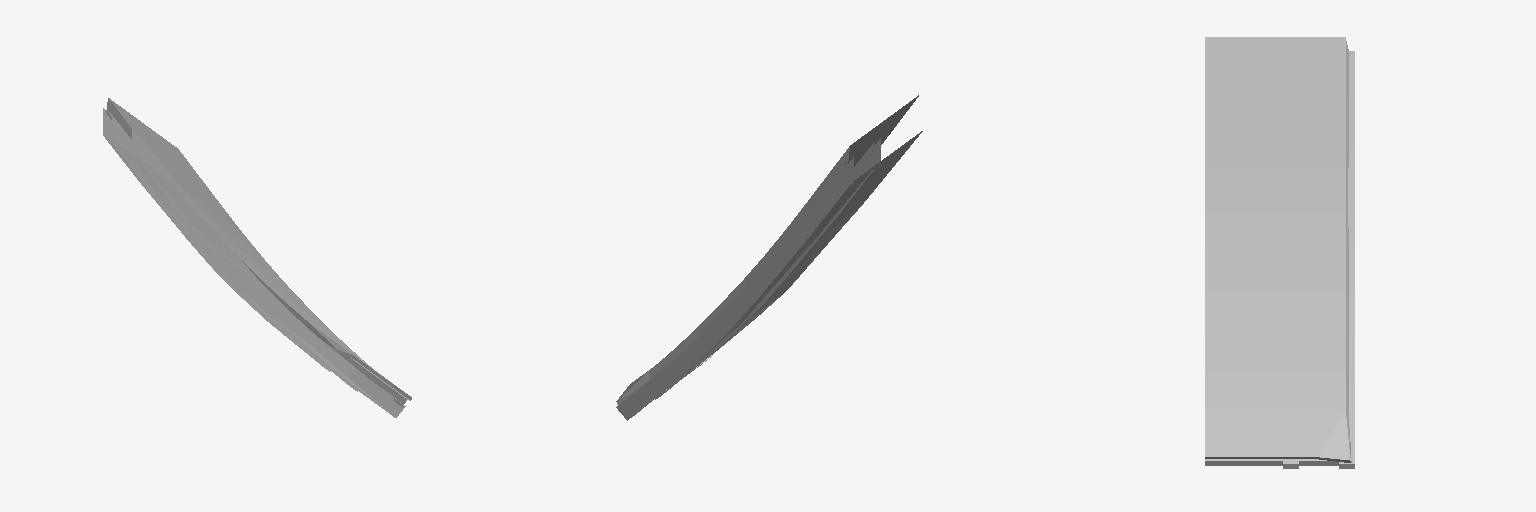
The model's file is Roof_Modular_FlatTiles_6_R_Half.obj.
3 views of the same model, side by side, from view 1: azimuth 30°, elevation 25°; view 2: azimuth 150°, elevation 25°; view 3: azimuth 270°, elevation 25° (orthographic).
Visible parts, largest first — view 1: Roof_Modular_FlatTiles_6_R_Half; view 2: Roof_Modular_FlatTiles_6_R_Half; view 3: Roof_Modular_FlatTiles_6_R_Half.
Boxes of the visible parts, x1,y1,x2,y2 form: Roof_Modular_FlatTiles_6_R_Half: [103, 98, 411, 417]; Roof_Modular_FlatTiles_6_R_Half: [616, 95, 922, 420]; Roof_Modular_FlatTiles_6_R_Half: [1205, 37, 1354, 468].
Size of the model in its own units: 4.1 by 5.36 by 2.24.